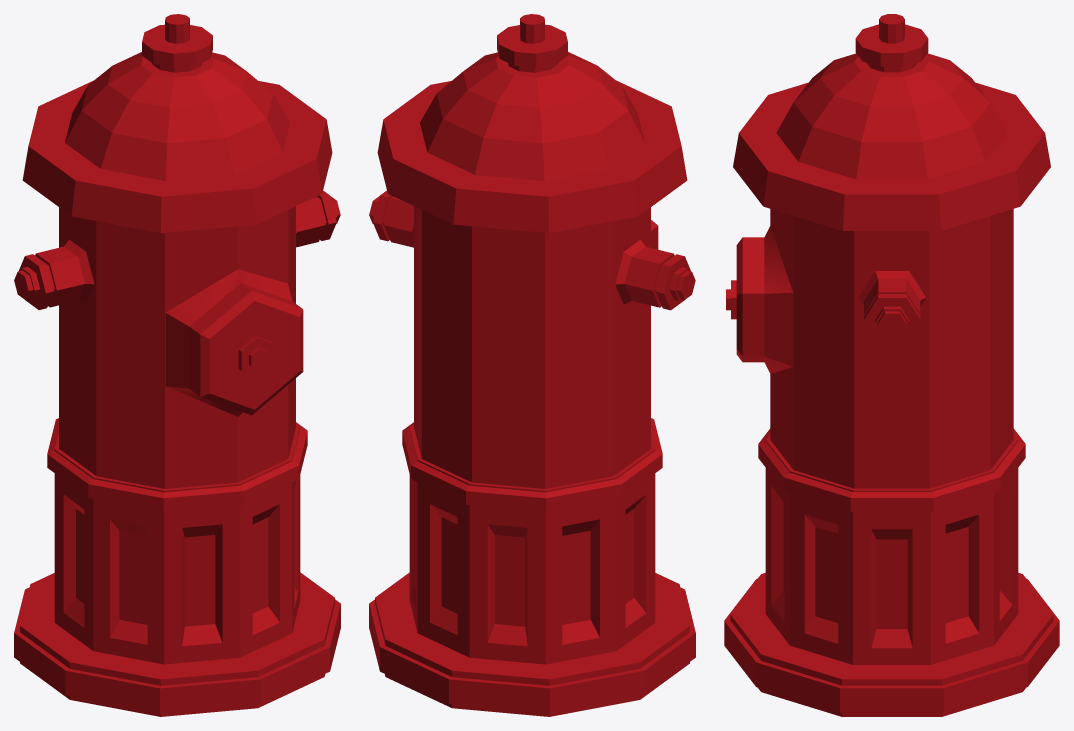
Rendered from hidrante.FBX.
3 views of the same model, side by side, from view 1: azimuth 30°, elevation 25°; view 2: azimuth 150°, elevation 25°; view 3: azimuth 270°, elevation 25° (orthographic).
Visible parts, largest first — view 1: Capsule001; view 2: Capsule001; view 3: Capsule001.
Part boxes in pixels (left/top/right/bottom): Capsule001: left=14, top=14, right=340, bottom=716; Capsule001: left=369, top=14, right=695, bottom=716; Capsule001: left=724, top=14, right=1059, bottom=716.
Bounding box in the file's own units: 26.84 × 51.78 × 24.89.
